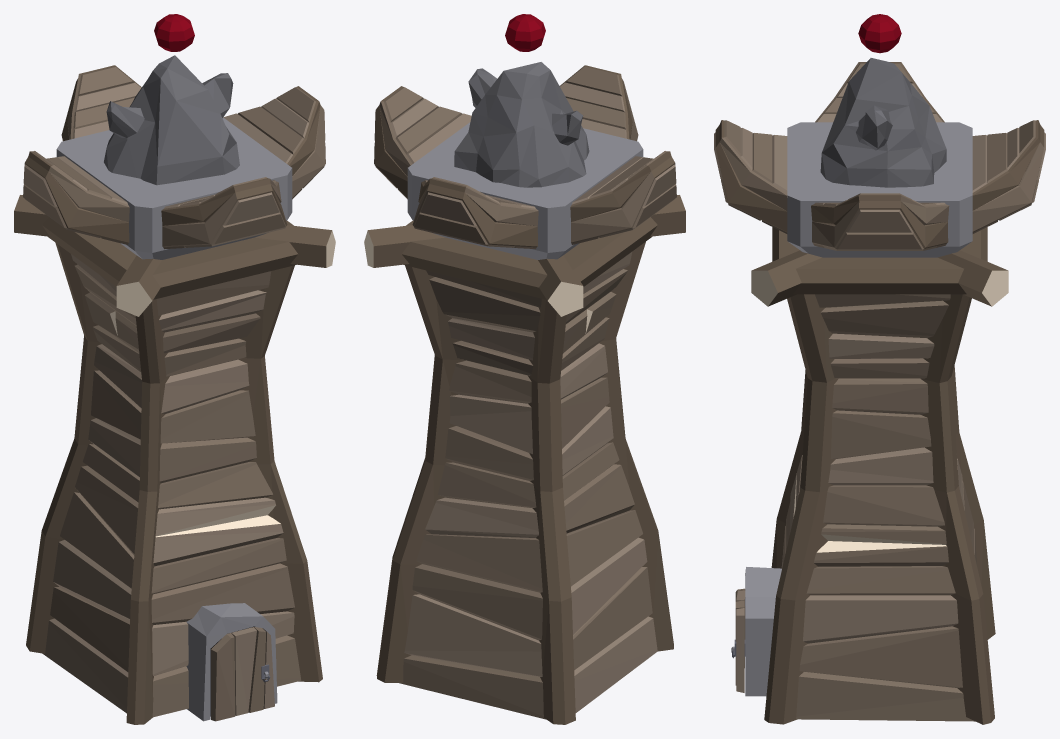
The model's file is _Wizard_tower_LVL_1.fbx.
3 views of the same model, side by side, from view 1: azimuth 30°, elevation 25°; view 2: azimuth 150°, elevation 25°; view 3: azimuth 270°, elevation 25° (orthographic). The views are drawn at different scales.
Parts seen in each view (by area): view 1: Wizard_tower_LVL_1; view 2: Wizard_tower_LVL_1; view 3: Wizard_tower_LVL_1.
Part boxes in pixels (box(x1,y1,x2,y2)): Wizard_tower_LVL_1: box(14, 14, 335, 724); Wizard_tower_LVL_1: box(364, 14, 685, 724); Wizard_tower_LVL_1: box(714, 14, 1045, 724).
Size of the model in its own units: 806 by 1775 by 806.
